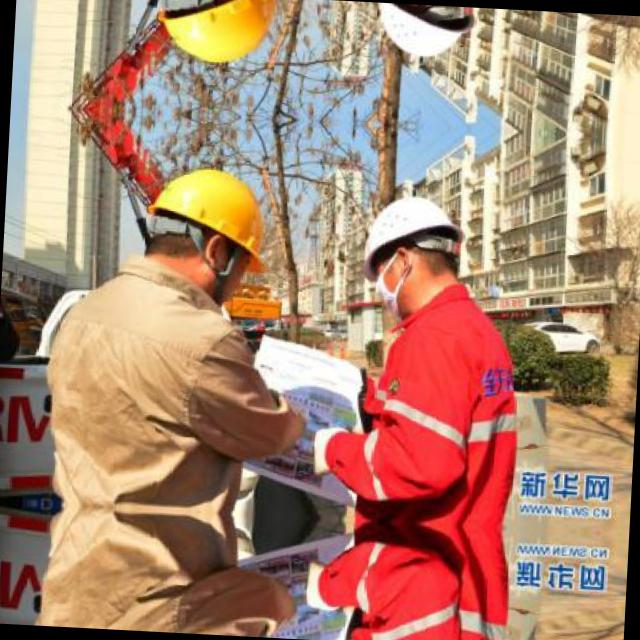helmet: (134, 150, 284, 308), (349, 181, 476, 315), (146, 0, 293, 83), (362, 2, 488, 73)
